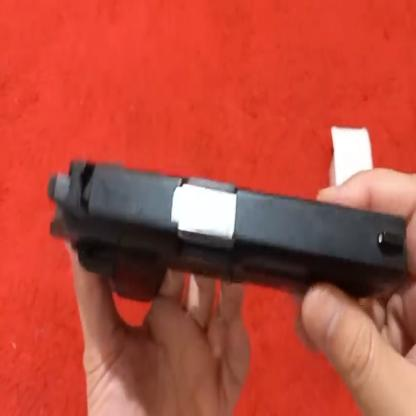handgun: (43, 134, 416, 329)
